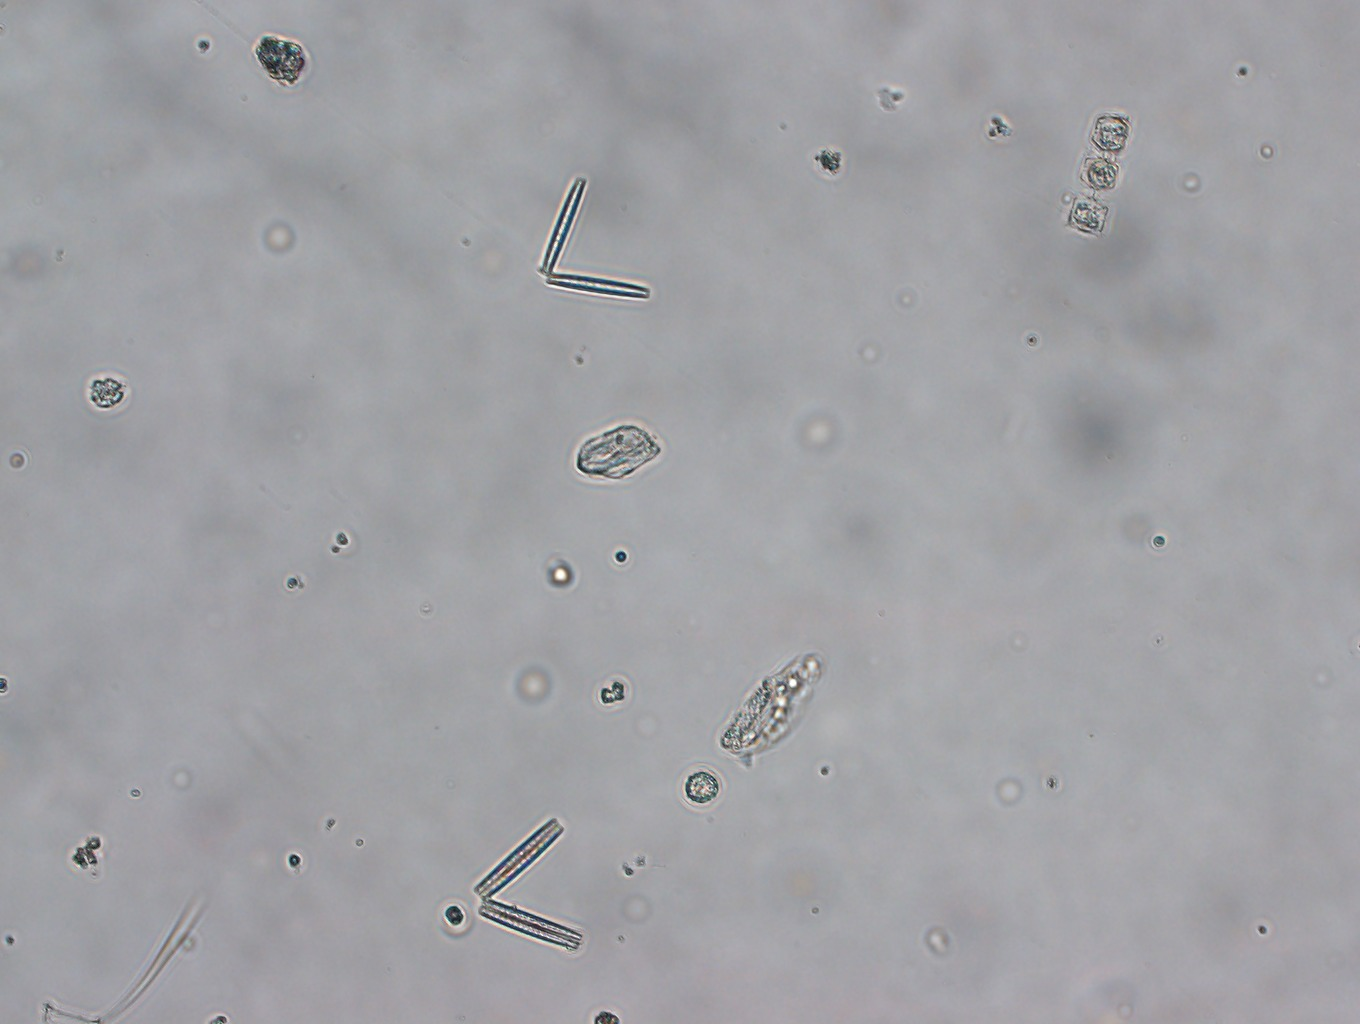skeletonema: (1044, 97, 1139, 243)
thalassionema nitzschioides: (529, 170, 655, 308), (470, 807, 583, 958)
